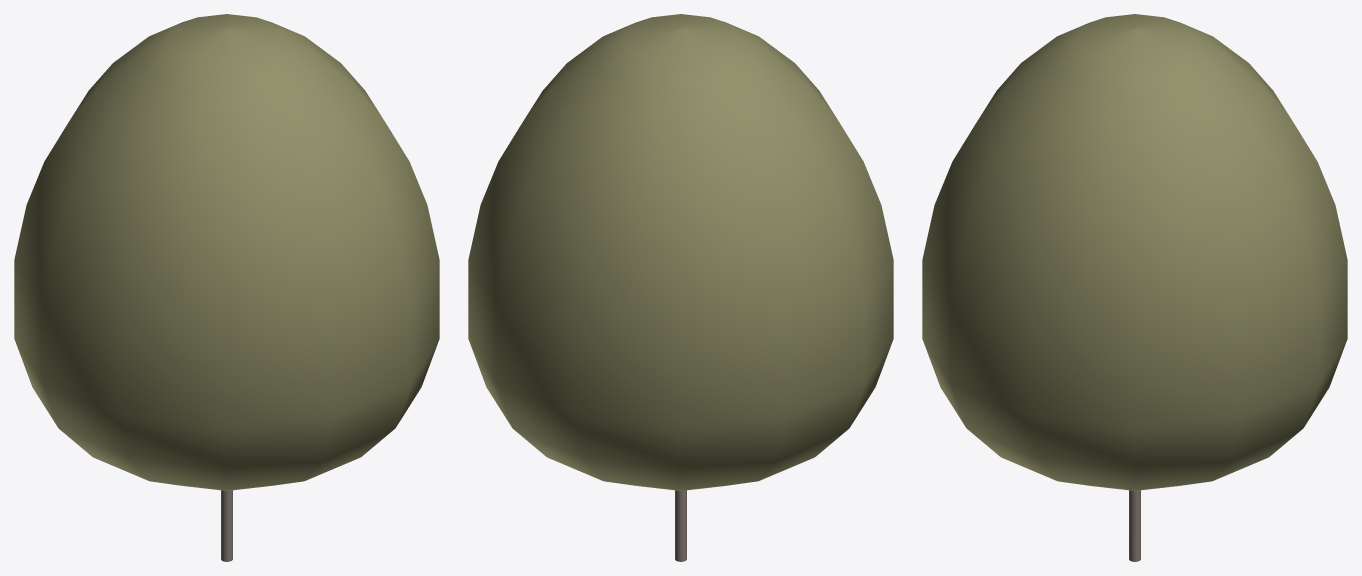
Rendered from Alder_Buckthorn_Analytical_0.obj.
The picture shows the model from 3 angles, left to right: view 1: azimuth 30°, elevation 25°; view 2: azimuth 150°, elevation 25°; view 3: azimuth 270°, elevation 25°; orthographic projection.
Parts seen in each view (by area): view 1: AnalyticalCrown, AnalyticalTrunk; view 2: AnalyticalCrown, AnalyticalTrunk; view 3: AnalyticalCrown, AnalyticalTrunk.
Part boxes in pixels (x1,y1,x2,y2): AnalyticalCrown: (14, 14, 439, 490); AnalyticalTrunk: (221, 490, 232, 561); AnalyticalCrown: (468, 14, 893, 490); AnalyticalTrunk: (675, 490, 686, 561); AnalyticalCrown: (922, 14, 1347, 490); AnalyticalTrunk: (1129, 490, 1140, 561).
Size of the model in its own units: 7.26 by 10 by 7.26.
